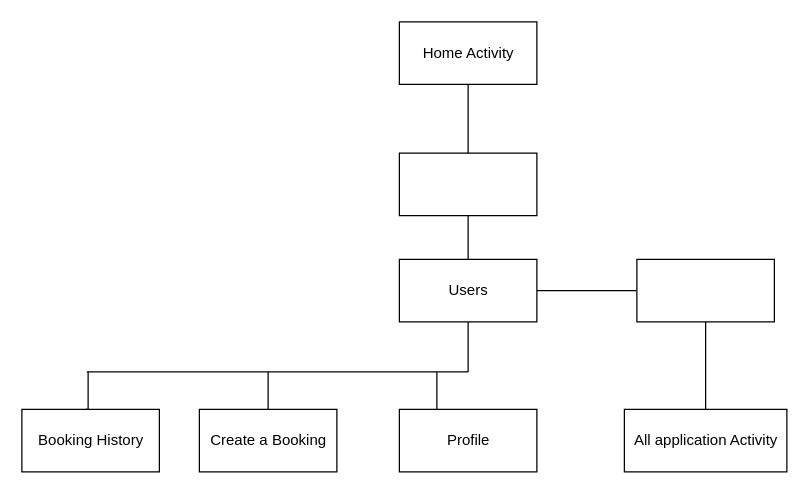
Image size: 809x494. Some labels were removed from this diagram. Each missing label, with the box of its shape:
Admin: (636, 258, 774, 322)
Sign in/Sign up: (398, 152, 537, 216)
